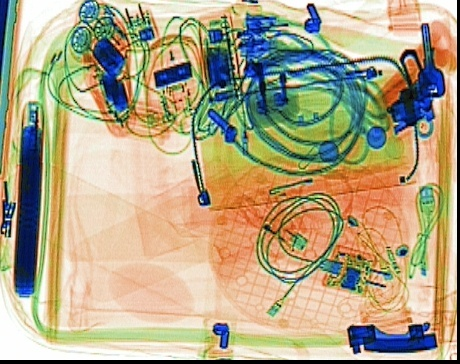powerbank: (12, 99, 43, 299)
